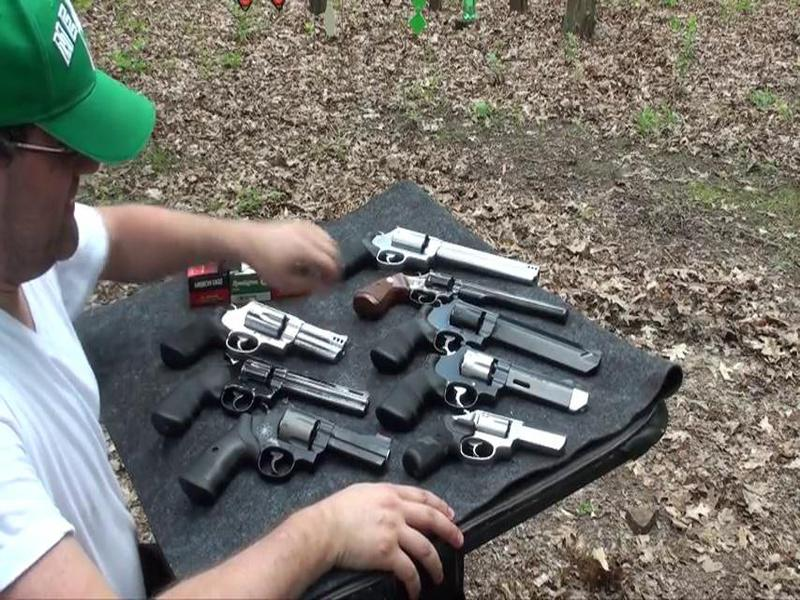Revolver: (314, 207, 550, 296)
